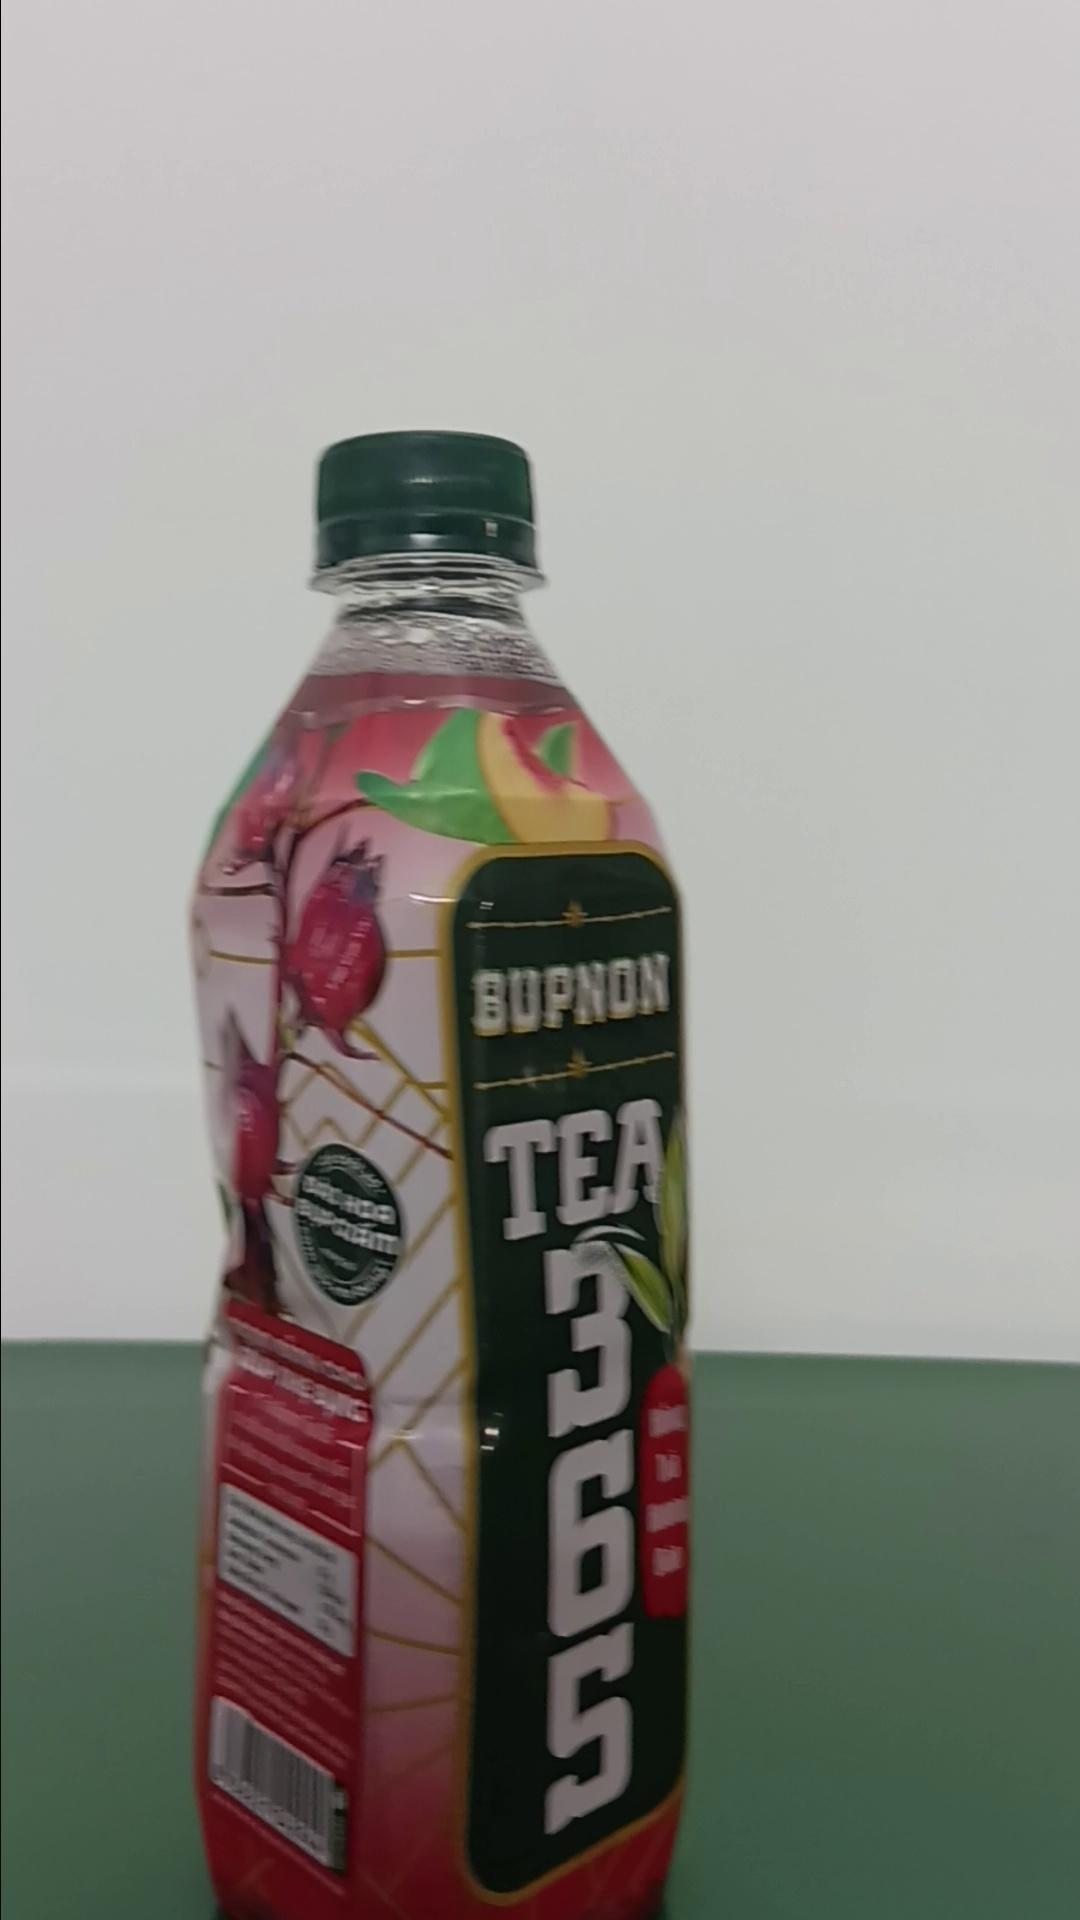loi meo sp: (185, 426, 698, 1915)
